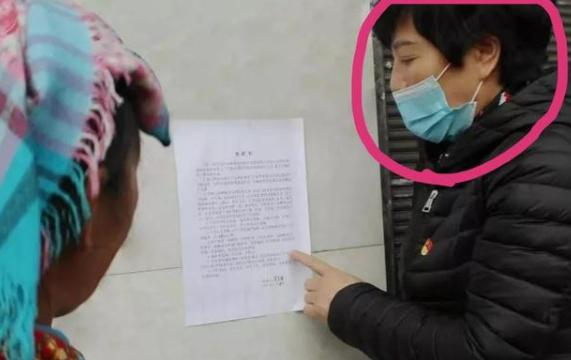WRONG: (388, 30, 458, 142)
